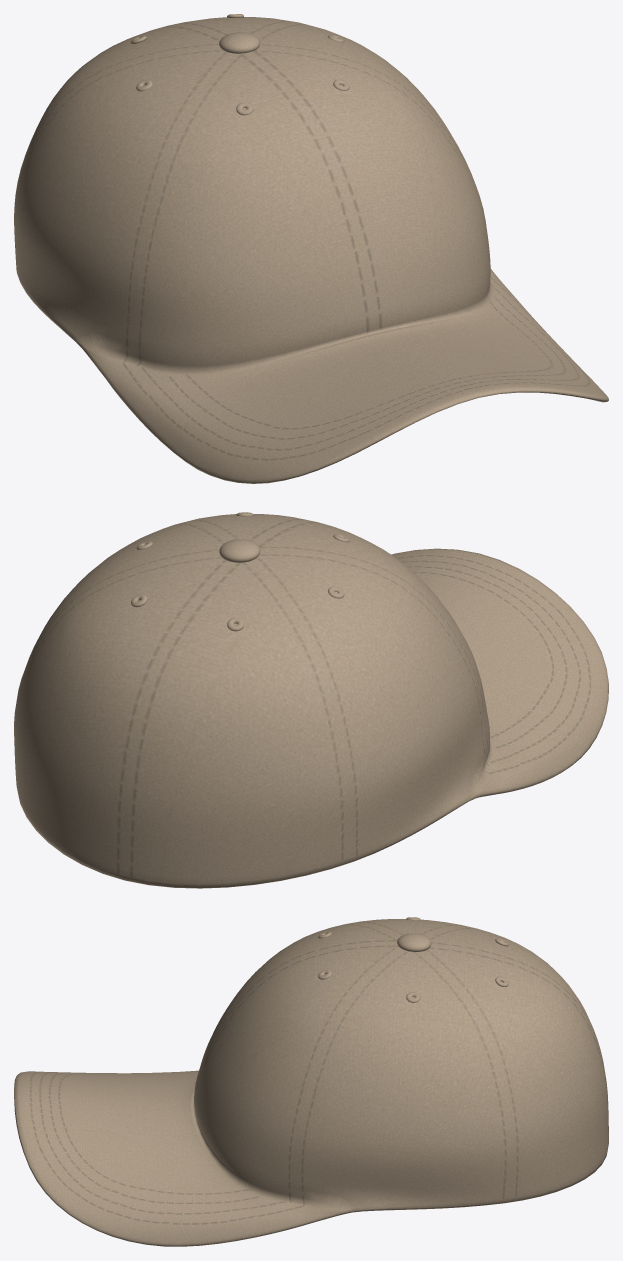
File: cap.glb
The picture shows the model from 3 angles, top to bottom: view 1: azimuth 30°, elevation 25°; view 2: azimuth 150°, elevation 25°; view 3: azimuth 270°, elevation 25°; orthographic projection. The views are drawn at different scales.
Parts seen in each view (by area): view 1: Cube, Sphere; view 2: Cube, Sphere, Torus.001; view 3: Cube, Sphere.
Part boxes in pixels (bbox=[...]): Cube: bbox=[14, 17, 608, 483]; Sphere: bbox=[219, 32, 260, 53]; Cube: bbox=[14, 514, 608, 888]; Sphere: bbox=[219, 539, 260, 562]; Torus.001: bbox=[131, 512, 349, 631]; Cube: bbox=[14, 919, 608, 1246]; Sphere: bbox=[397, 933, 431, 951].
Size of the model in its own units: 1.66 by 1.11 by 2.58.
1 material, 1 textured.
